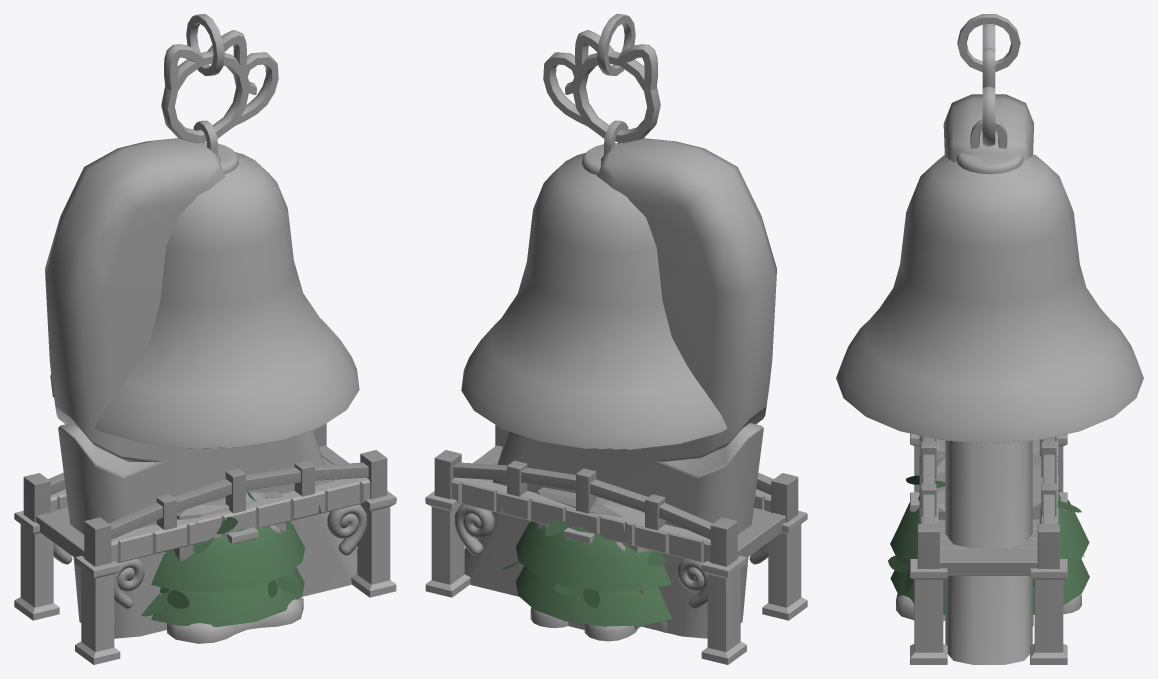
File: PackageAnimation.fbx
3 views of the same model, side by side, from view 1: azimuth 30°, elevation 25°; view 2: azimuth 150°, elevation 25°; view 3: azimuth 270°, elevation 25° (orthographic).
Parts seen in each view (by area): view 1: Obelisk, Bell, Bridge, Bush, Cat_Ring, Pawprint, Handle, BreakableBoulder; view 2: Obelisk, Bell, Bridge, Bush, Cat_Ring, BreakableBoulder, Pawprint, Handle; view 3: Bell, Obelisk, Bridge, Bush, Cat_Ring, Handle, BreakableBoulder, Pawprint.
Part boxes in pixels (bbox=[...]): Obelisk: bbox=[45, 138, 357, 638]; Bell: bbox=[50, 120, 359, 448]; Bridge: bbox=[14, 423, 396, 664]; Bush: bbox=[141, 491, 304, 626]; Cat_Ring: bbox=[161, 30, 278, 143]; Pawprint: bbox=[167, 597, 303, 643]; Handle: bbox=[186, 14, 224, 75]; BreakableBoulder: bbox=[173, 490, 286, 562]; Obelisk: bbox=[464, 138, 776, 638]; Bell: bbox=[461, 120, 770, 449]; Bridge: bbox=[425, 425, 807, 664]; Bush: bbox=[502, 520, 671, 626]; Cat_Ring: bbox=[543, 30, 660, 143]; BreakableBoulder: bbox=[536, 487, 648, 629]; Pawprint: bbox=[530, 607, 667, 641]; Handle: bbox=[597, 14, 635, 75]; Bell: bbox=[836, 119, 1143, 443]; Obelisk: bbox=[943, 94, 1033, 664]; Bridge: bbox=[910, 433, 1067, 664]; Bush: bbox=[888, 475, 1089, 615]; Cat_Ring: bbox=[982, 24, 995, 146]; Handle: bbox=[957, 14, 1020, 72]; BreakableBoulder: bbox=[935, 451, 1042, 519]; Pawprint: bbox=[896, 594, 1081, 626].
Bounding box in the file's own units: 101 × 188 × 89.75.
